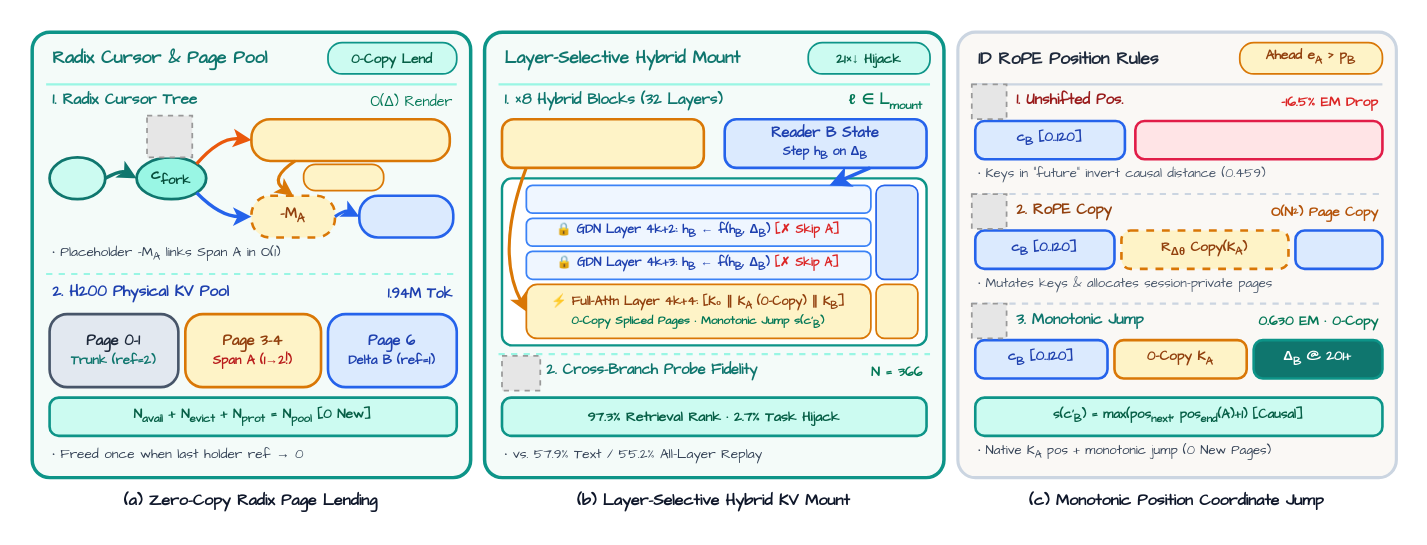
Image size: 1427x545. Some labels were removed from this diagram. Grey dashed boxes stand in for pictures. The shapes that lost their labels are listed below. From the top down, each one's centre as x and y in pixels, then its label:
the point at 349,139: c A [s A , e A ]
the point at 602,142: Sibling A KV Pages K A , V A
the point at 1258,139: Span A [80..200] > p B !
the point at 76,177: c₀
the point at 343,177: 0-Copy
the point at 405,216: c' B (Δ B )
the point at 698,198: 🔒 GDN Layer 4k+1: h B ← f(h B , Δ B ) [✗ Skip A]
the point at 896,231: 24 GDN
the point at 1338,248: Δ B
the point at 896,310: 8 Attn
